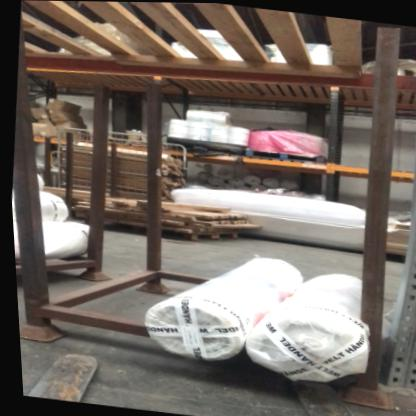vertical_damage: (367, 348, 416, 402)
